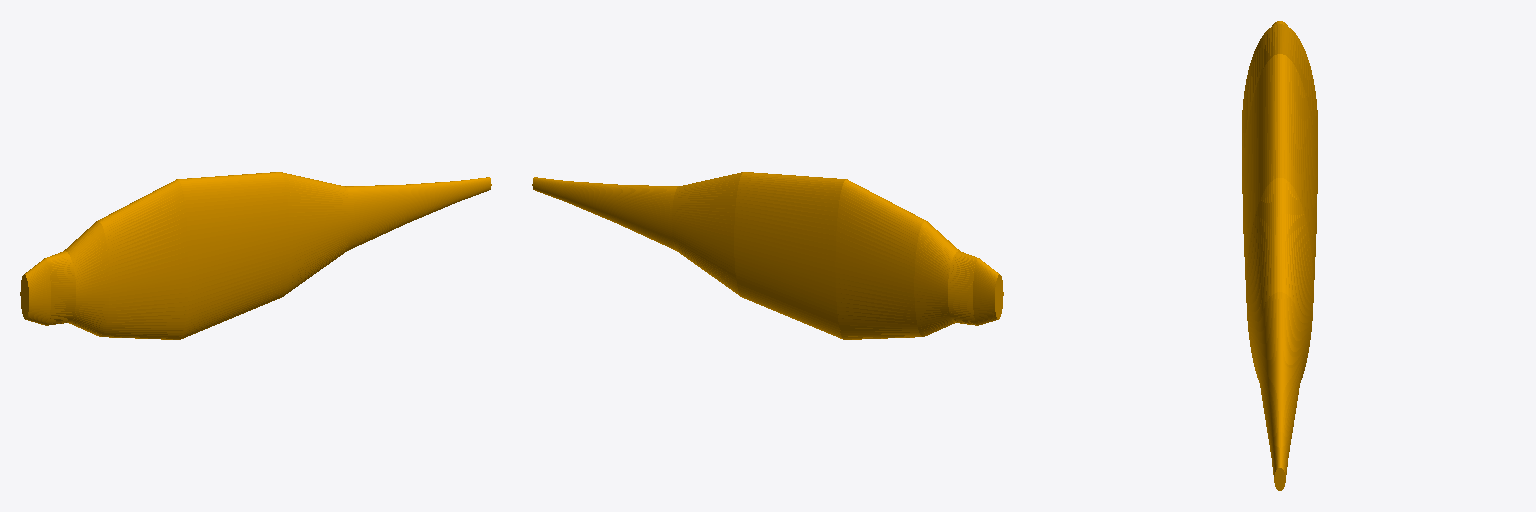
robot.urdf — pipette:
<?xml version="1.0"?>
<robot name="pipette">
  <link name="base_link">
    <inertial>
      <origin xyz="0 0 0" rpy="0 0 0"/>
      <mass value="0.180000"/>
      <inertia ixx="0.00011438" ixy="0.0" ixz="0.0"
               iyy="0.00110683" iyz="0.0"
               izz="0.00100446"/>
    </inertial>
    <visual>
      <origin xyz="0 0 0" rpy="0 0 0"/>
      <geometry><mesh filename="../mesh/visual_mesh.obj" scale="1 1 1"/></geometry>
    </visual>
    <collision>
      <origin xyz="0 0 0" rpy="0 0 0"/>
      <geometry><mesh filename="../mesh/collision_mesh.obj" scale="1 1 1"/></geometry>
    </collision>
  </link>
</robot>

--- Facts derived from the render (not from the file) ---
3 views of the same robot in one strip: view 1: azimuth 30°, elevation 25°; view 2: azimuth 150°, elevation 25°; view 3: azimuth 270°, elevation 25° (orthographic).
Robot: pipette — 1 links, 0 joints (none); root link base_link; default pose: every joint at zero.
Visible links, largest first — view 1: base_link; view 2: base_link; view 3: base_link.
Boxes of the visible links, x1,y1,x2,y2 form: base_link: [20, 172, 491, 339]; base_link: [532, 172, 1003, 339]; base_link: [1242, 21, 1317, 490].
Bounding box of the posed robot: 0.258 × 0.02 × 0.085 m (x, y, z).
1 mesh visuals loaded from 1 distinct referenced files (1 OBJ).
